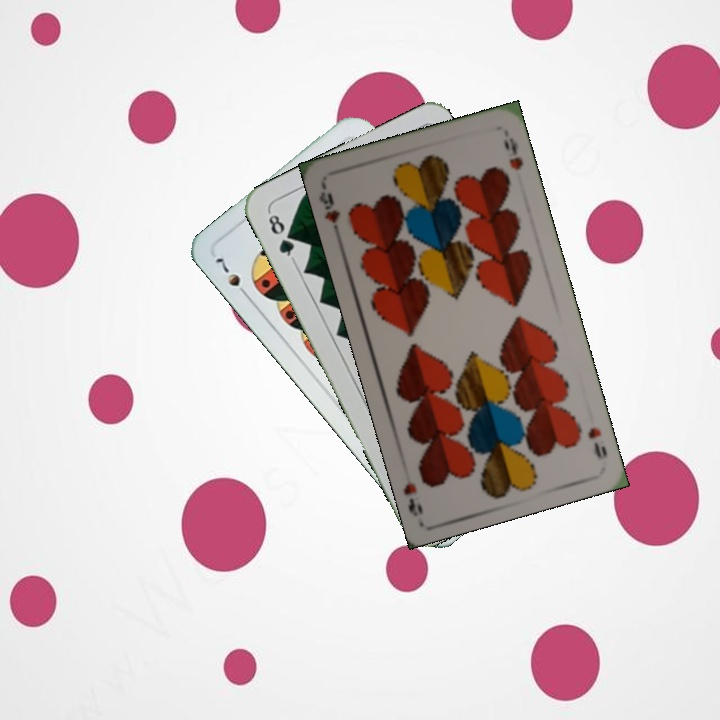G8: (264, 208, 297, 263)
H9: (315, 188, 343, 240), (584, 423, 610, 462)
S7: (211, 253, 252, 302)
